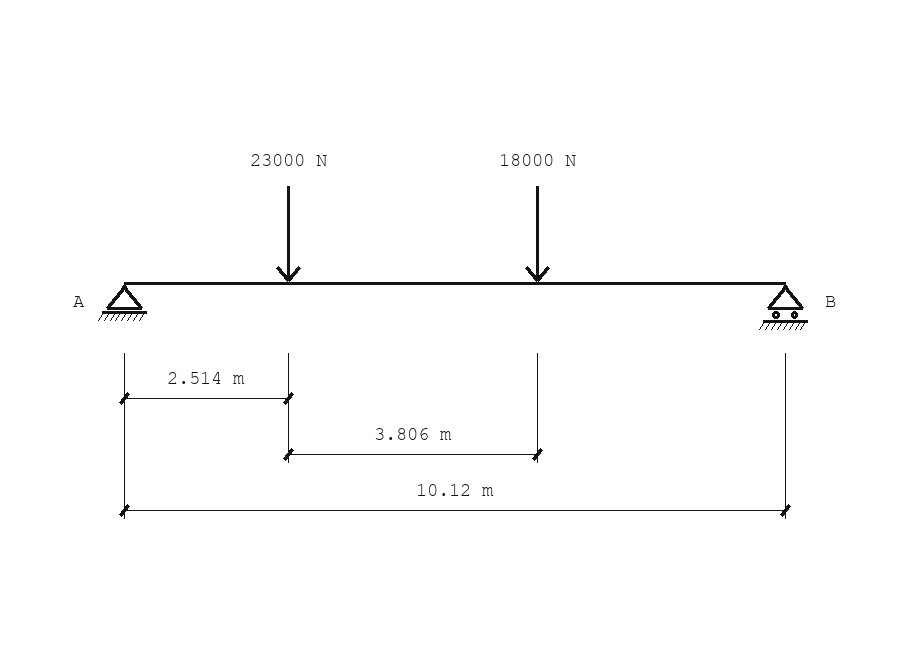pin_support: (98, 285, 147, 321)
point_load: (276, 186, 301, 282), (525, 186, 550, 282)
roller_support: (759, 285, 808, 330)
